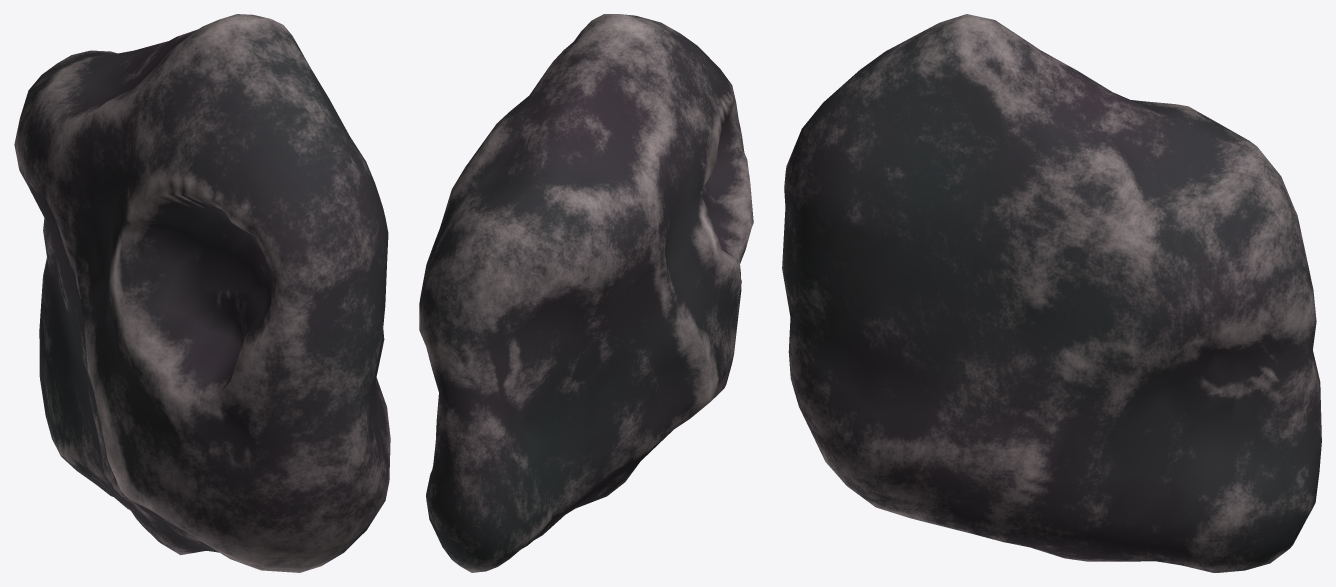
3 views of the same model, side by side, from view 1: azimuth 30°, elevation 25°; view 2: azimuth 150°, elevation 25°; view 3: azimuth 270°, elevation 25° (orthographic). The views are drawn at different scales.
Visible parts, largest first — view 1: Cube_low_poly; view 2: Cube_low_poly; view 3: Cube_low_poly.
Part boxes in pixels (left/top/right/bottom): Cube_low_poly: left=14, top=14, right=390, bottom=572; Cube_low_poly: left=419, top=14, right=753, bottom=572; Cube_low_poly: left=782, top=14, right=1321, bottom=572.
Bounding box in the file's own units: 2.3 × 4.83 × 4.41.
1 material, 1 textured.
